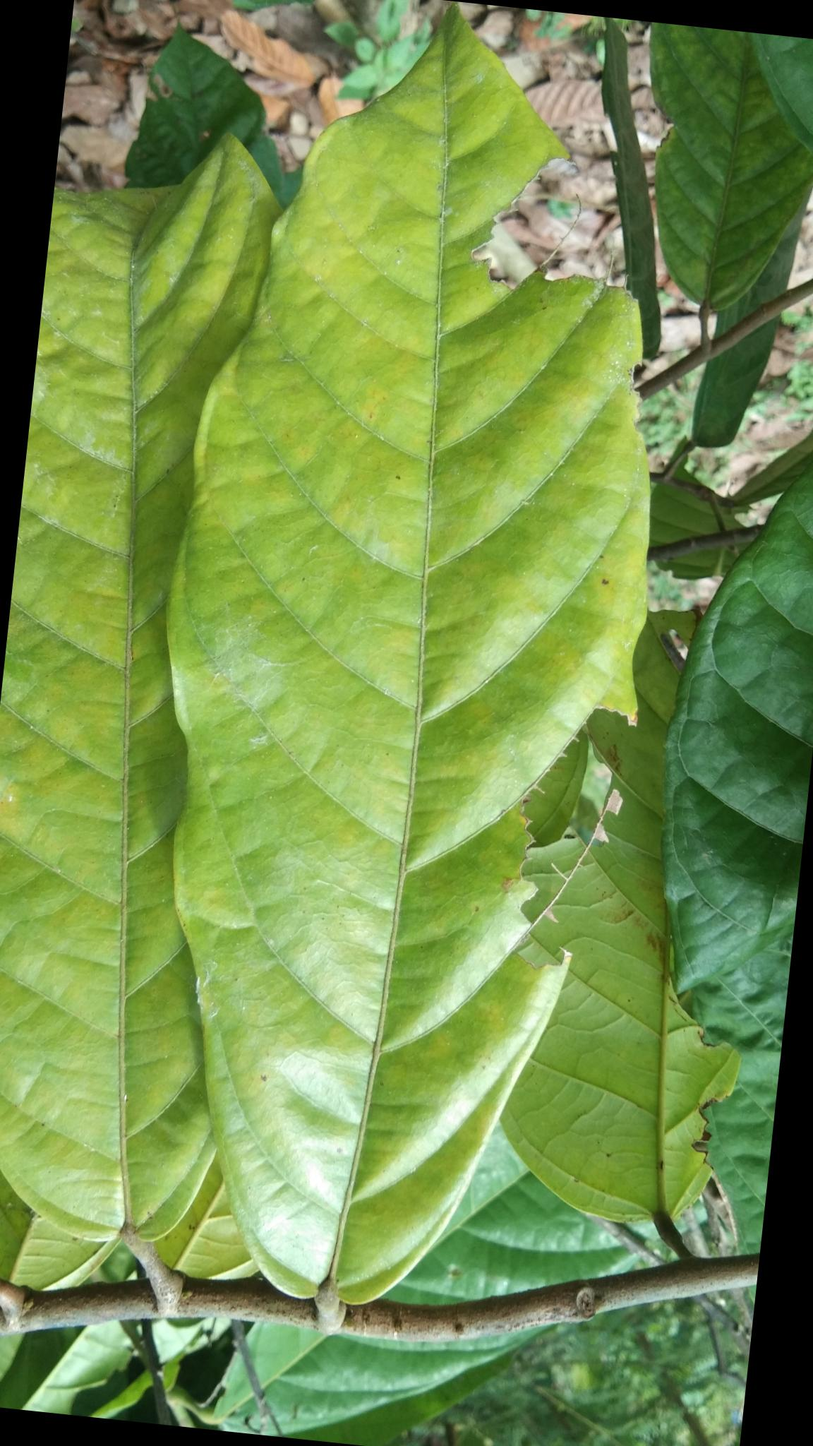Potasio: (187, 24, 631, 1314)
